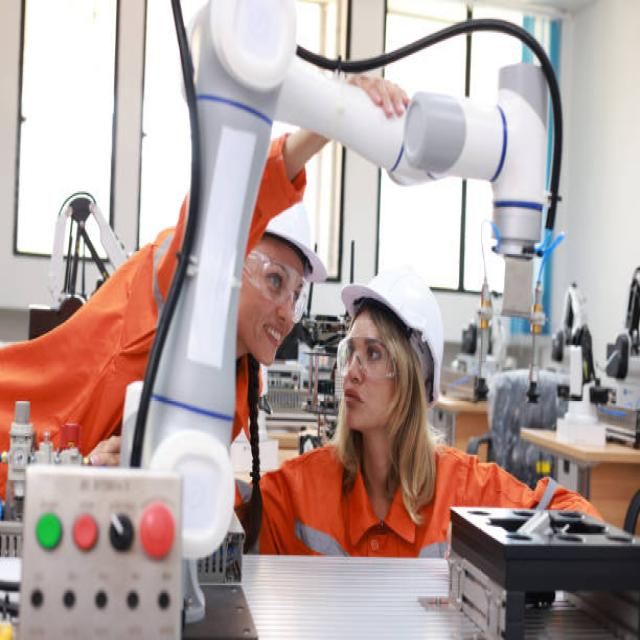Robotic-arm: (136, 0, 557, 544)
